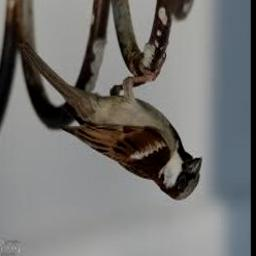Sparrow: (18, 39, 201, 200)
